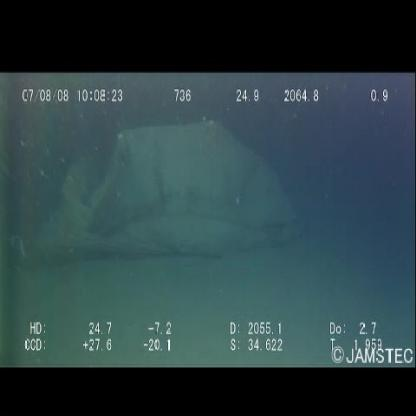Rác: (25, 112, 308, 276)
